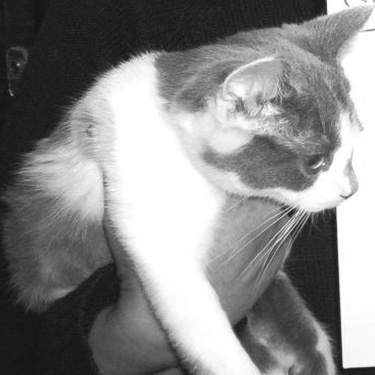cat: (6, 4, 369, 371)
